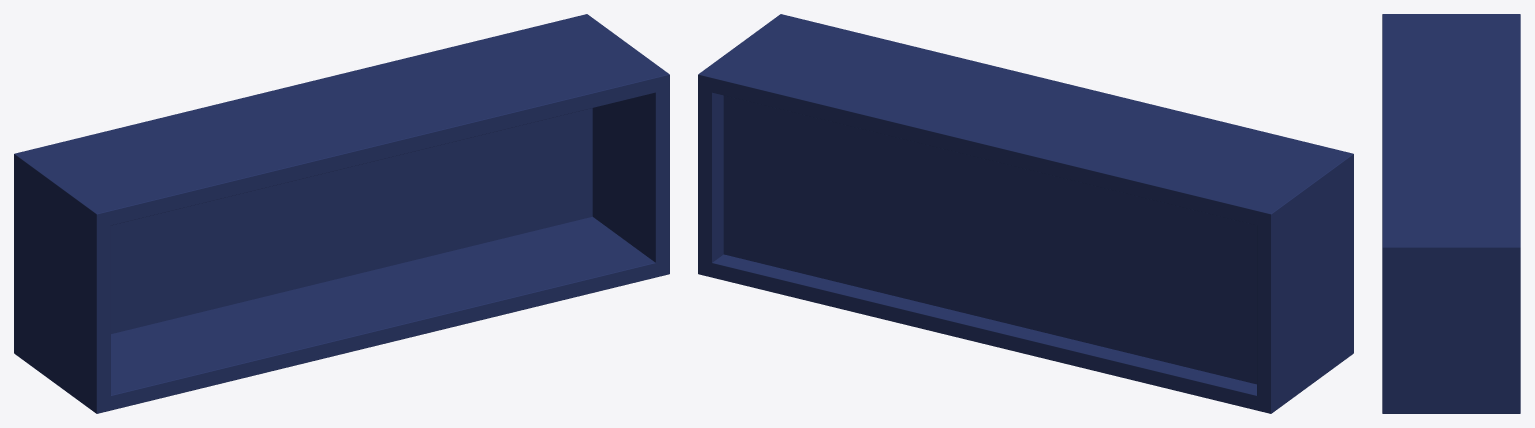
File: MODH_2X07_A_B_AF.glb
The picture shows the model from 3 angles, left to right: view 1: azimuth 30°, elevation 25°; view 2: azimuth 150°, elevation 25°; view 3: azimuth 270°, elevation 25°; orthographic projection. The views are drawn at different scales.
Size of the model in its own units: 720 by 240 by 180.
